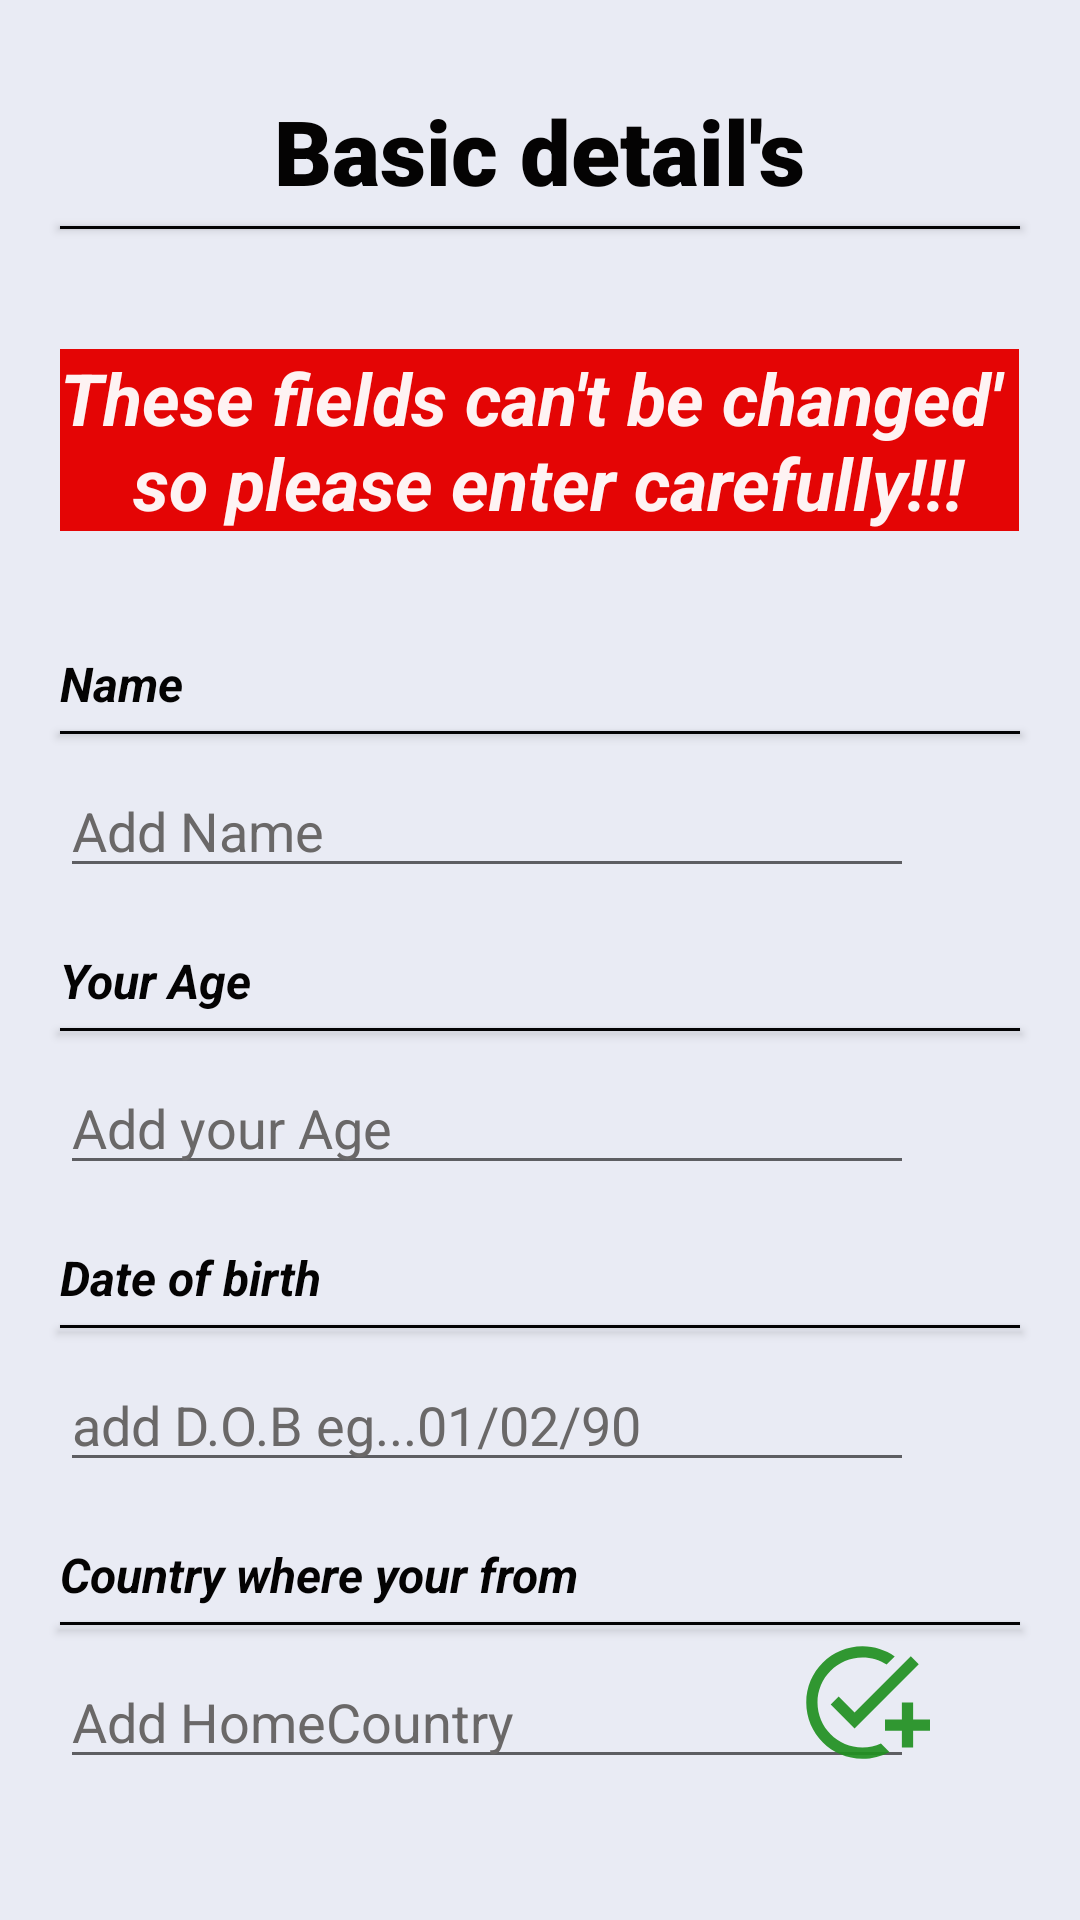

Named icons in this screenshot (1080px×1920px) and their bounding boxes, (x1, y1, x2, y2):
save button: (795, 1646, 930, 1759)
